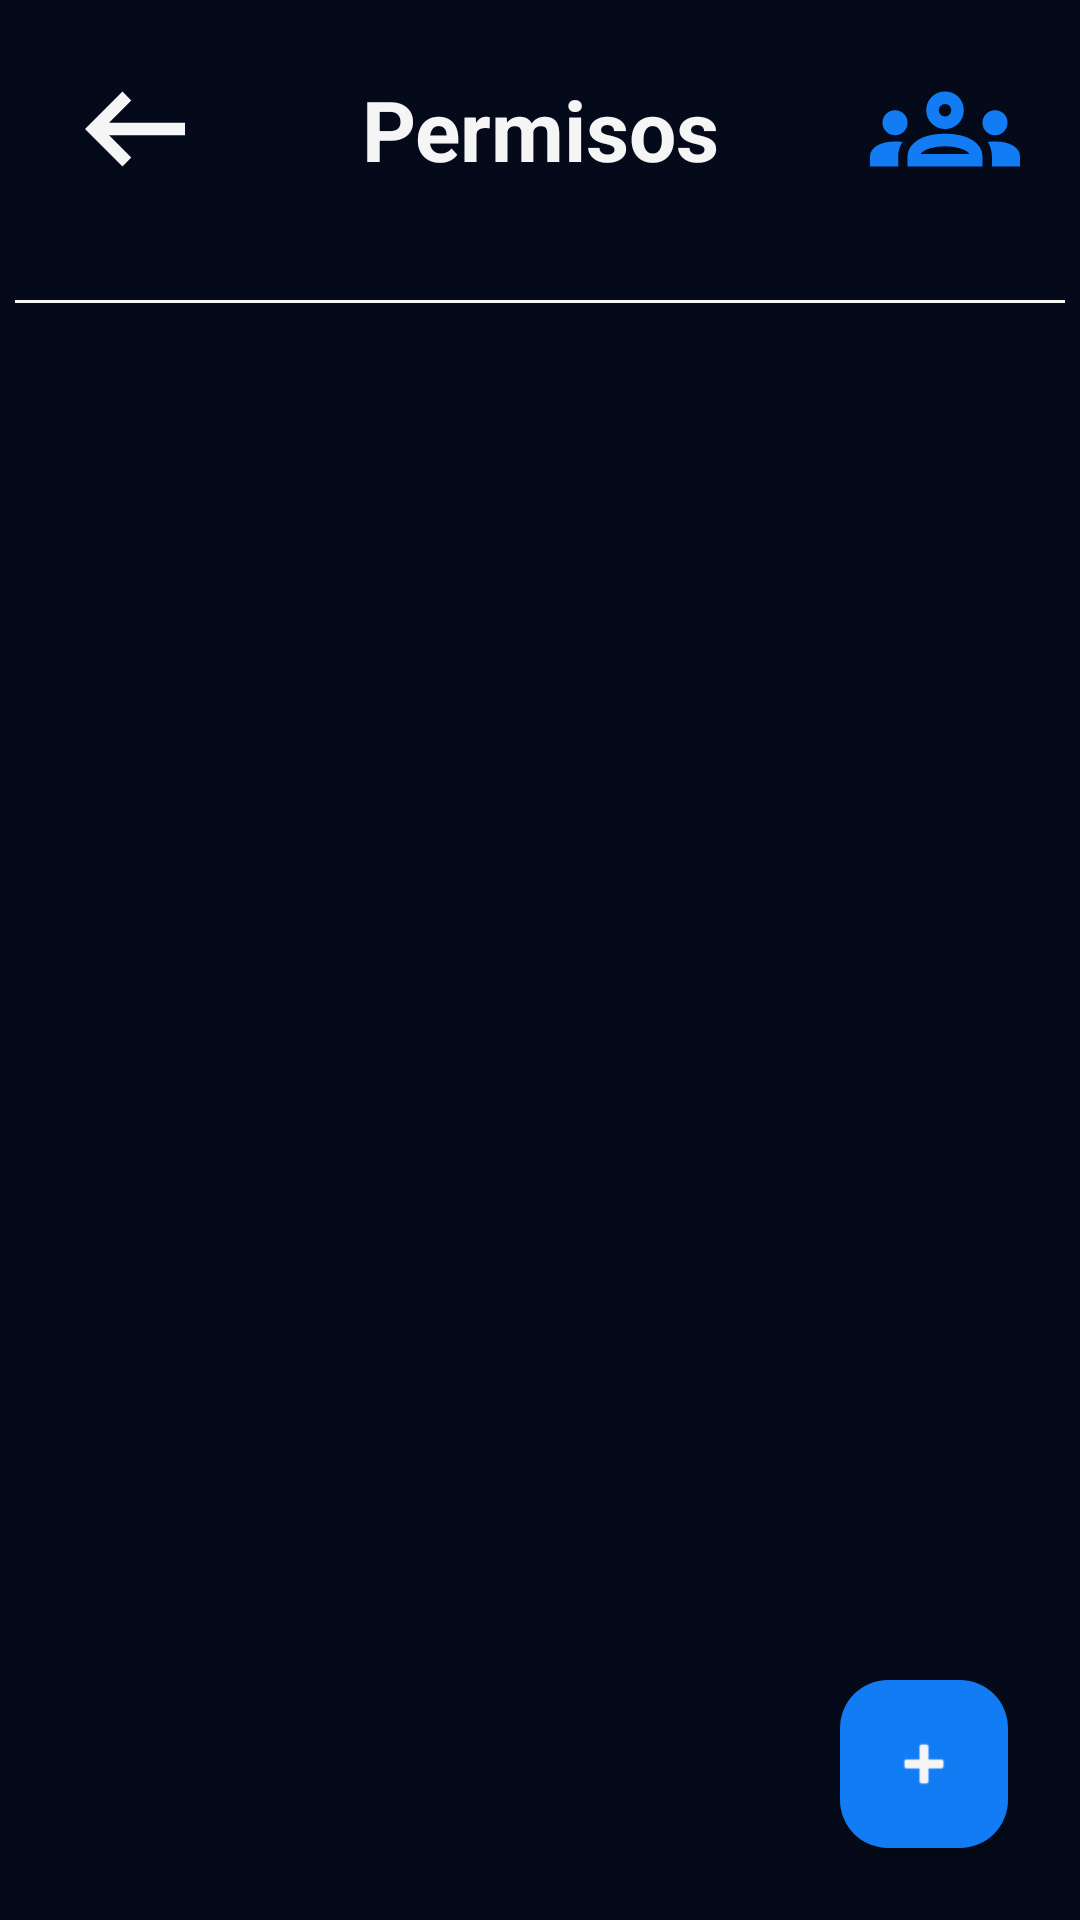

Screen size 1080 x 1920. Icon name, then its center in pixels as [x,y]:
Botón de ir atrás: [135,129]
Crear nuevo permiso: [924,1764]
personas: [945,129]
